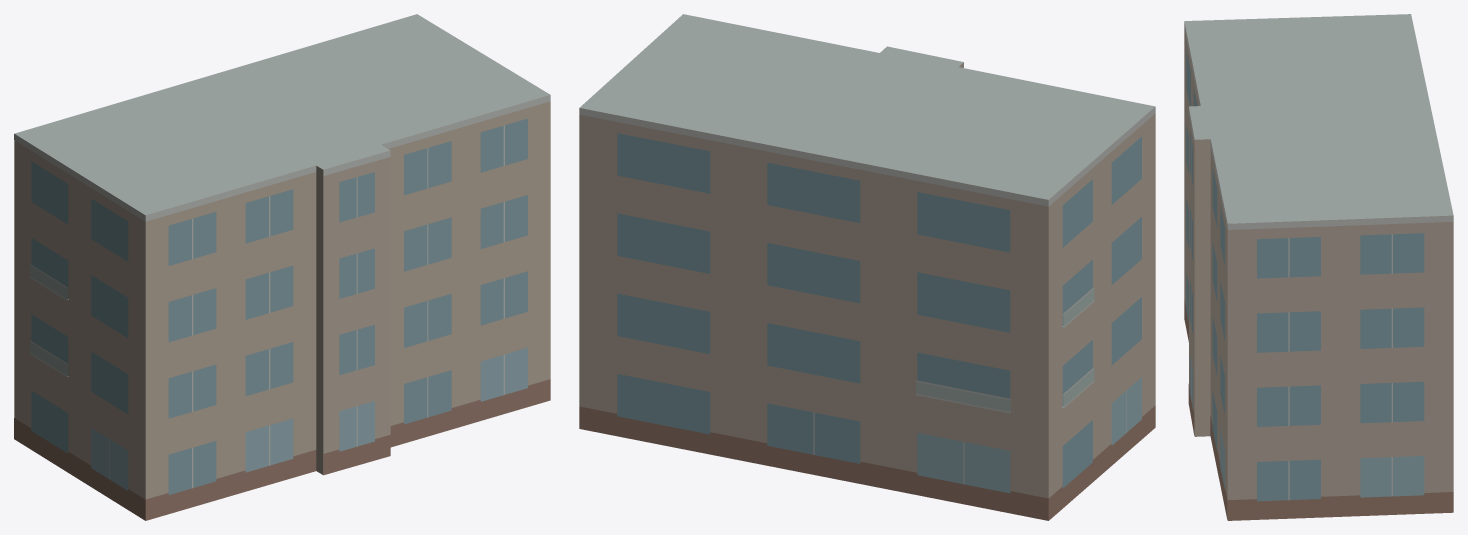
File: survey-upis-33024060.glb
3 renders of one model, left to right at view 1: azimuth 30°, elevation 25°; view 2: azimuth 150°, elevation 25°; view 3: azimuth 270°, elevation 25°, orthographic. The views are drawn at different scales.
Visible parts, largest first — view 1: survey-upis-33024060.tmp; view 2: survey-upis-33024060.tmp; view 3: survey-upis-33024060.tmp.
Boxes of the visible parts, x1,y1,x2,y2 form: survey-upis-33024060.tmp: (14, 14, 550, 520); survey-upis-33024060.tmp: (579, 14, 1155, 520); survey-upis-33024060.tmp: (1184, 14, 1453, 520).
Size of the model in its own units: 17.73 by 11.7 by 9.63.
